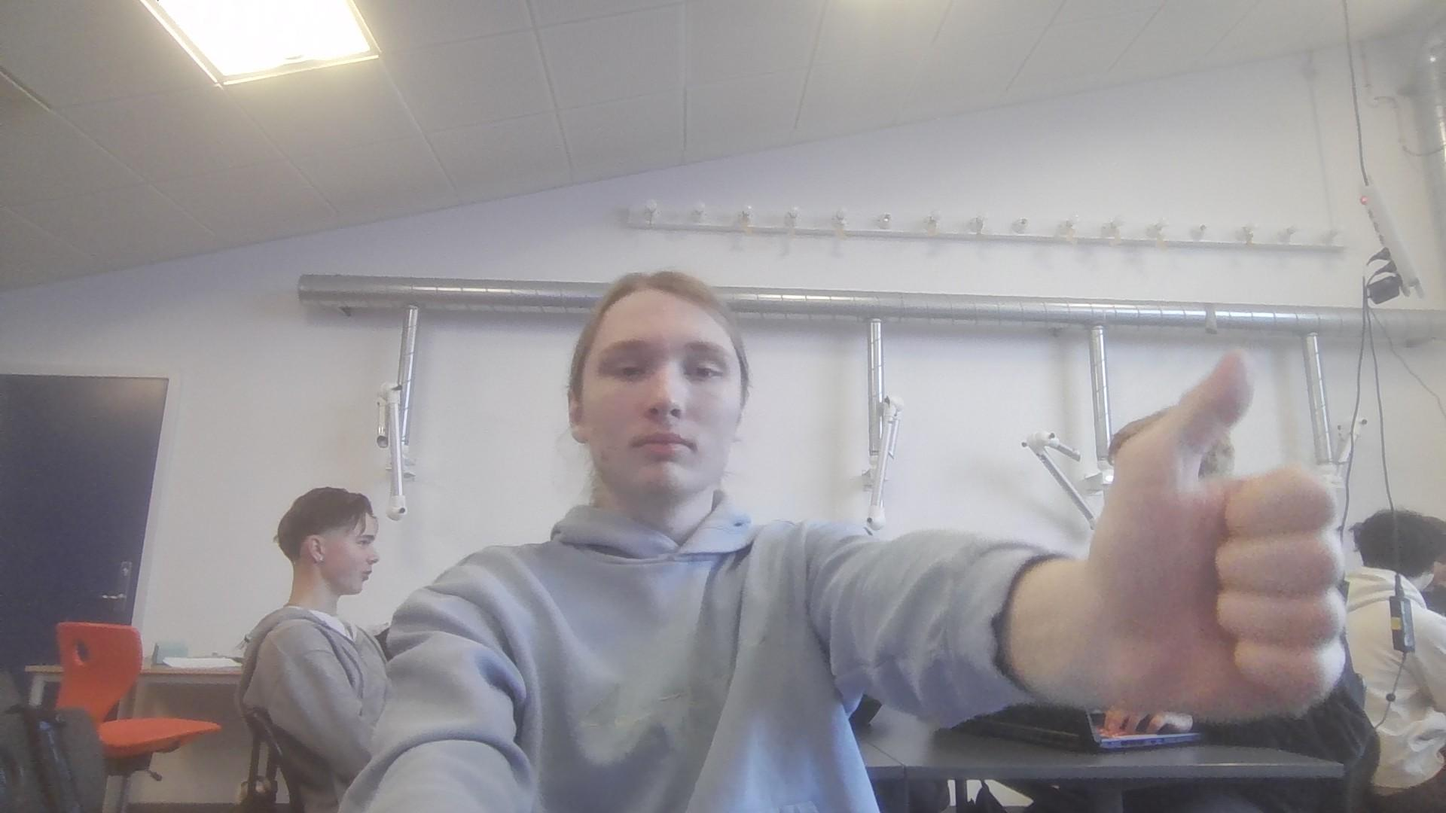thumbs up: (1081, 347, 1349, 743)
